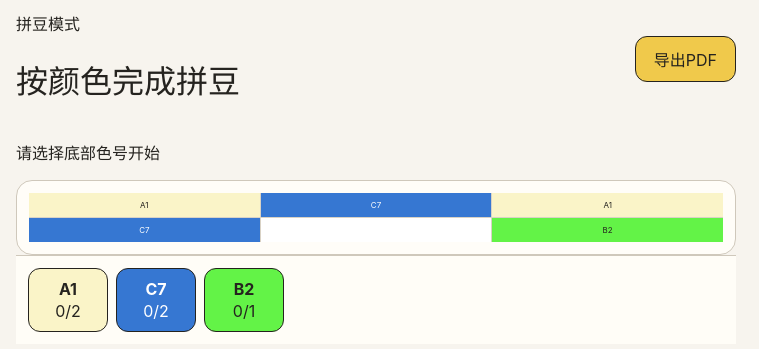
Scenario: exports a PDF from assembly mode
What coordinates should you click on to do the following:
click the button "导出PDF"
I would click on:
 (685, 59)
Its box is x1=635 y1=36 x2=736 y2=82.
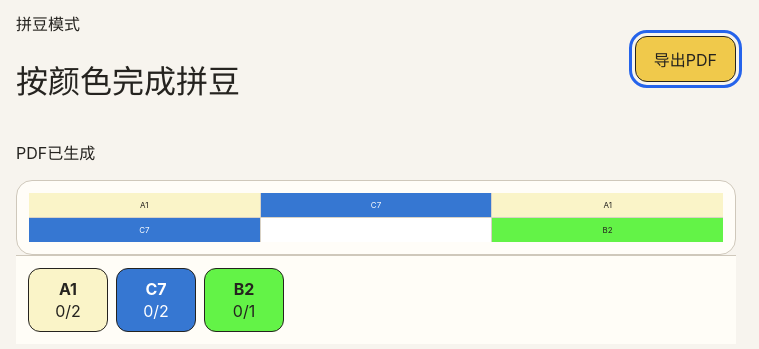
Now the message reads "PDF已生成", box x1=16 y1=143 x2=95 y2=163
